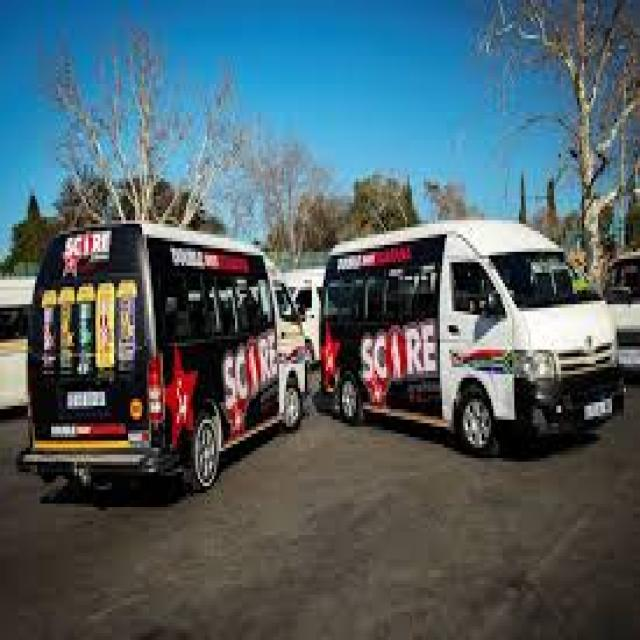MiniBus taxi: (321, 168, 624, 455), (21, 217, 309, 510)
